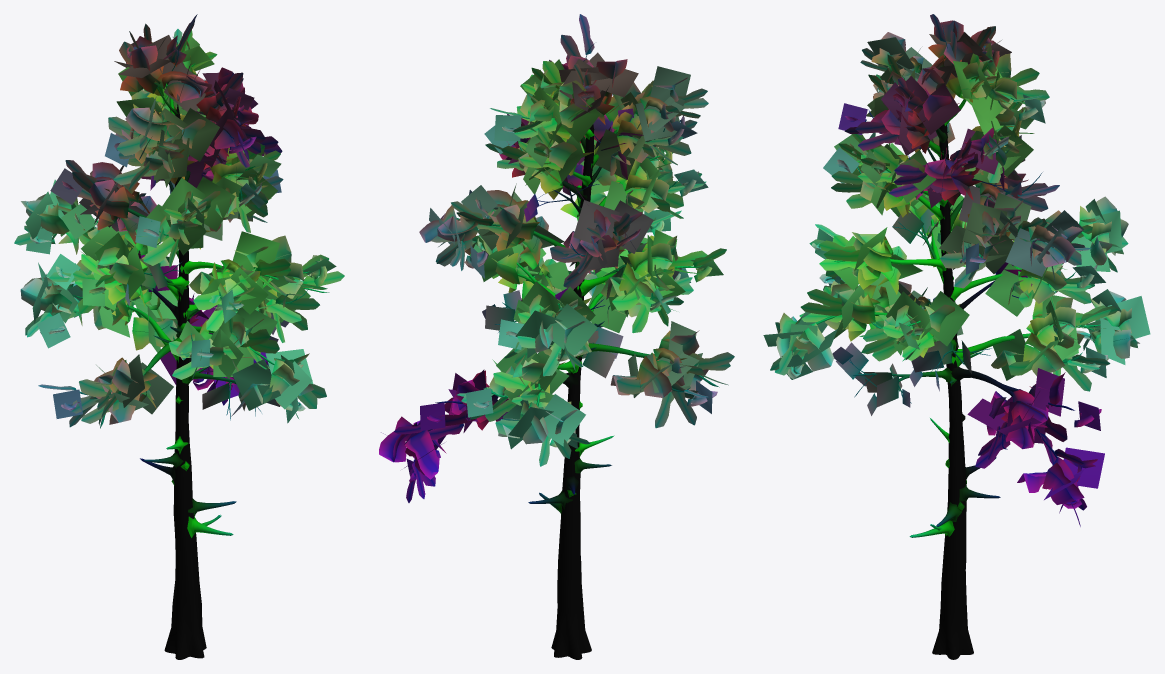
Rendered from more leaf pine.fbx.
The picture shows the model from 3 angles, left to right: view 1: azimuth 30°, elevation 25°; view 2: azimuth 150°, elevation 25°; view 3: azimuth 270°, elevation 25°; orthographic projection. The views are drawn at different scales.
Parts seen in each view (by area): view 1: branch08_1, _0, scotspineleaves_2; view 2: branch08_1, _0, scotspineleaves_2; view 3: branch08_1, _0, scotspineleaves_2.
Part boxes in pixels (x1,y1,x2,y2): branch08_1: (14,14,344,427); _0: (52,37,329,659); scotspineleaves_2: (109,151,289,416); branch08_1: (379,14,734,502); _0: (428,43,719,659); scotspineleaves_2: (482,108,682,378); branch08_1: (763,14,1150,526); _0: (809,25,1100,659); scotspineleaves_2: (832,138,1032,415).
Bounding box in the file's own units: 856 × 1848 × 1018.
